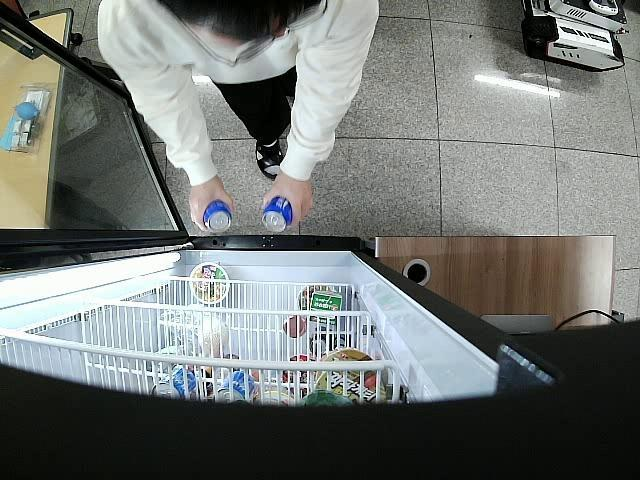13_pocariSweat: (260, 197, 294, 234), (202, 200, 233, 234)
